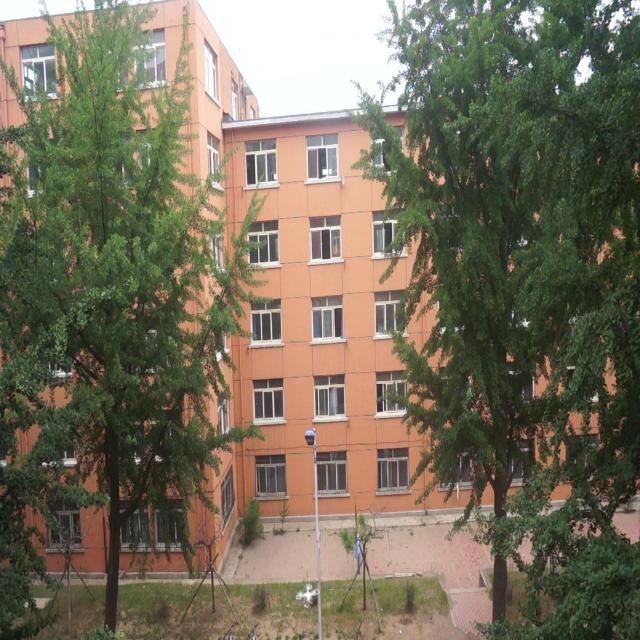UAV: (295, 584, 320, 608)
